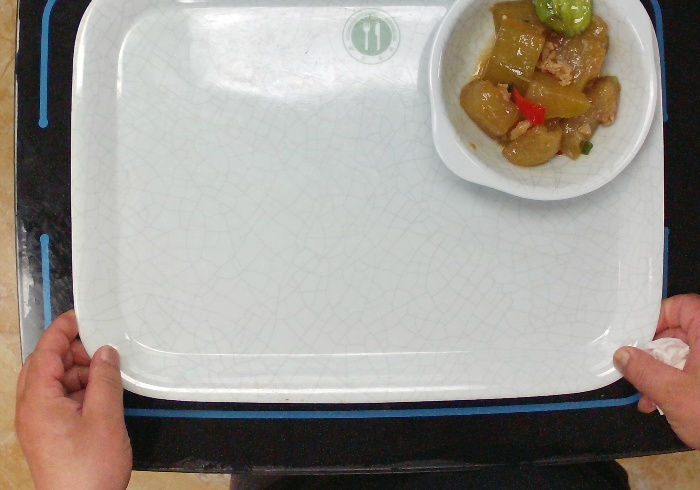JYsf-Shuang_Er_Wan: (414, 1, 666, 207)
